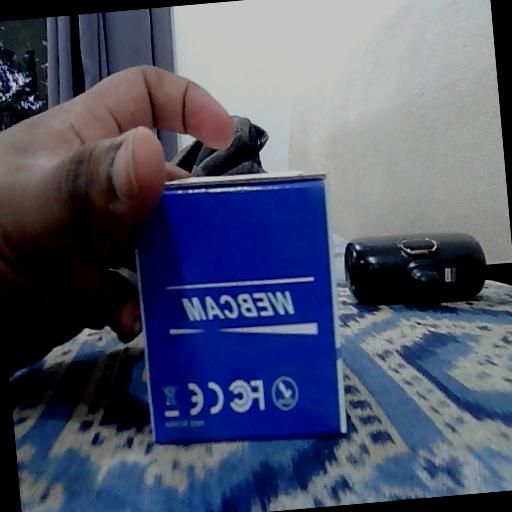webcam_box: (128, 164, 349, 453)
